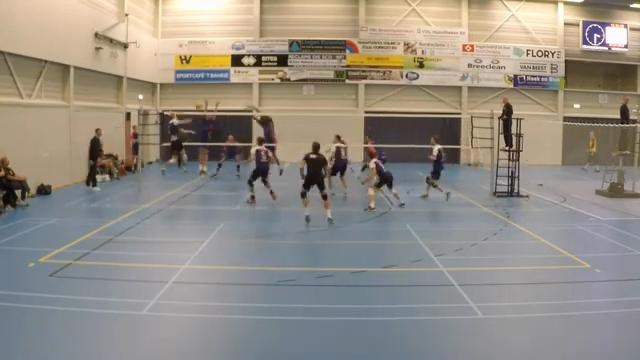attacco: (156, 107, 194, 177)
muro: (242, 103, 289, 173), (196, 96, 221, 181)
